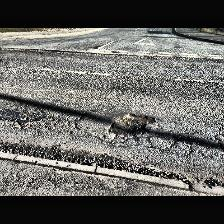pothole: (106, 112, 158, 140)
